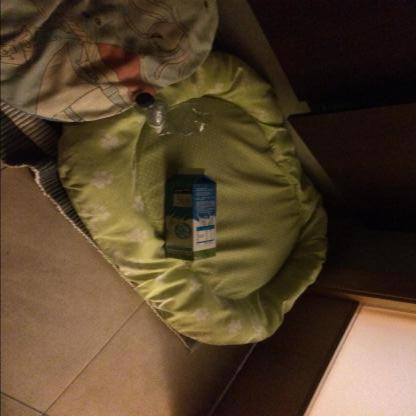Bottle: (136, 93, 153, 106)
Bottle cap: (135, 93, 212, 138)
Carton: (165, 167, 216, 262)
